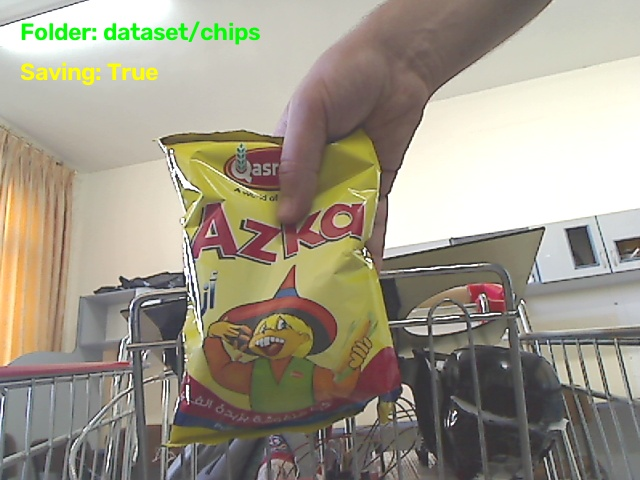chips: (160, 131, 399, 444)
